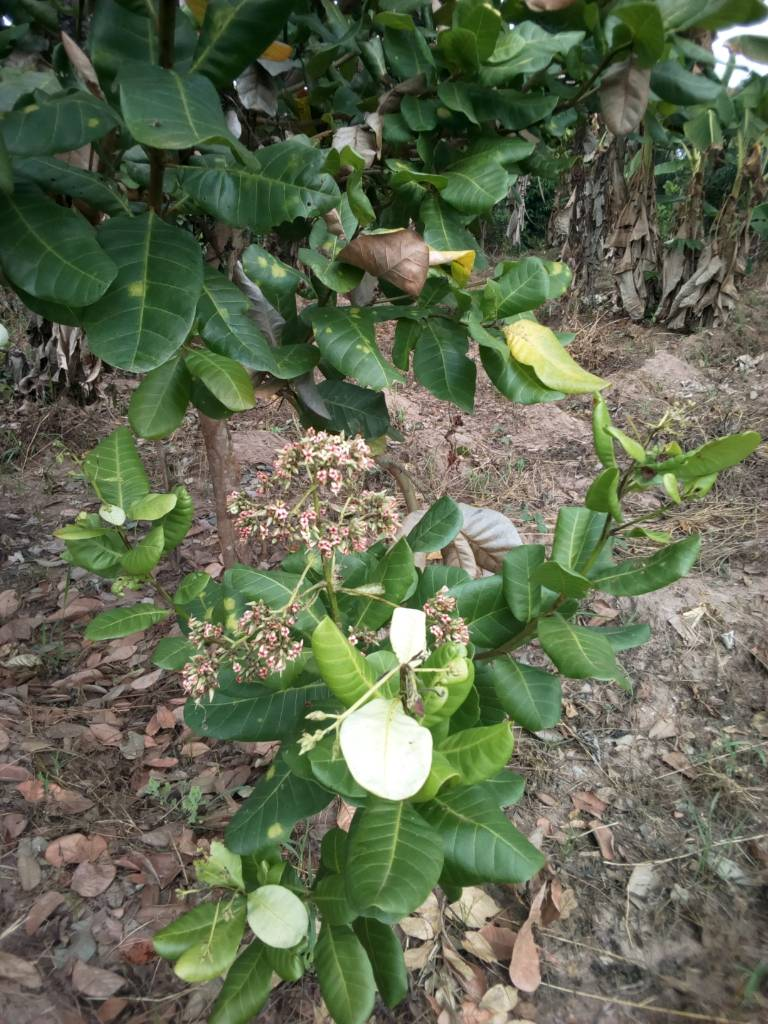Carence minérale: (93, 205, 235, 372), (300, 299, 416, 396), (230, 235, 326, 303), (493, 250, 580, 316)
